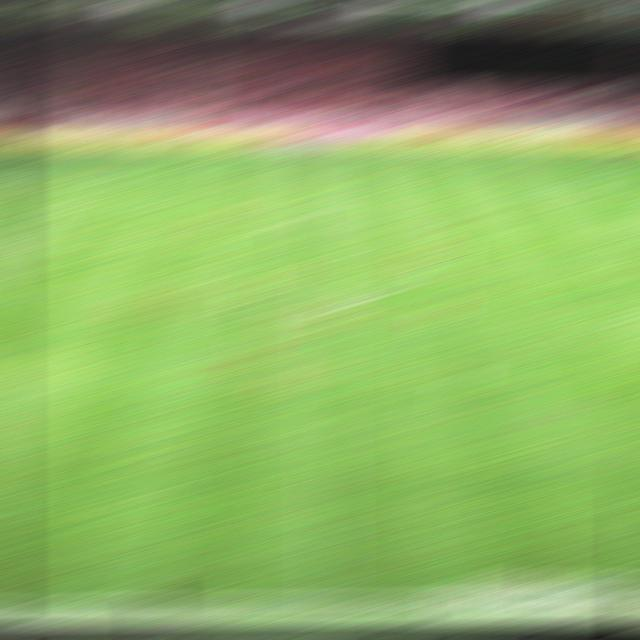bigarea_top_inner: (59, 180, 93, 186), (545, 179, 579, 185)
corner: (603, 148, 637, 153), (0, 149, 30, 151)
halfcircle_bottom: (306, 303, 341, 311)
halfcircle_top: (305, 213, 340, 218)
midline_bottom_intersection: (310, 592, 347, 607)
midline_top_intersection: (305, 145, 339, 150)
top_arc_area_intersection: (585, 222, 620, 227), (18, 224, 52, 228)
